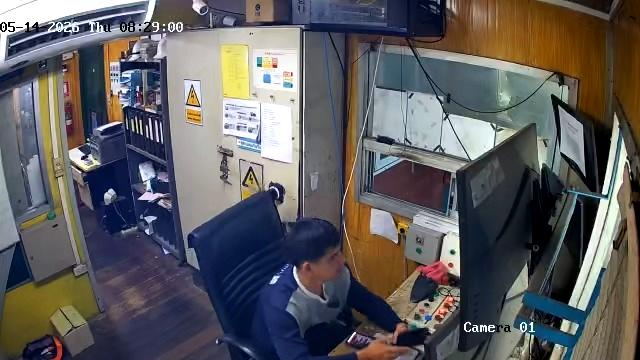Head: (281, 218, 348, 280)
People: (247, 215, 410, 360)
Phone: (344, 331, 375, 351), (398, 327, 428, 347)
